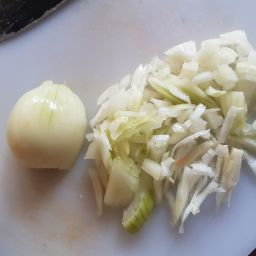Finely chopped onions: (6, 16, 256, 241), (80, 25, 256, 236), (106, 42, 256, 238), (147, 26, 256, 232), (5, 72, 89, 179), (19, 87, 89, 166)
